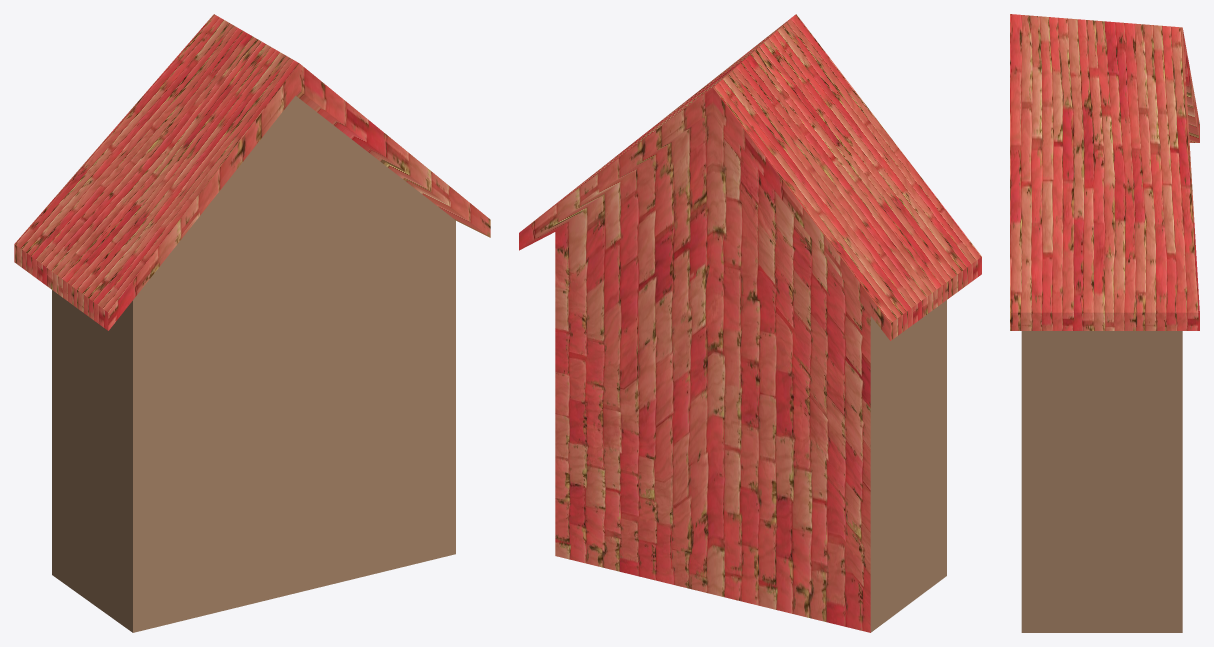
3 renders of one model, left to right at view 1: azimuth 30°, elevation 25°; view 2: azimuth 150°, elevation 25°; view 3: azimuth 270°, elevation 25°, orthographic. The views are drawn at different scales.
Parts seen in each view (by area): view 1: Cube.003; view 2: Cube.003; view 3: Cube.003.
Part boxes in pixels (bbox=[...]): Cube.003: bbox=[14, 14, 490, 632]; Cube.003: bbox=[519, 14, 981, 632]; Cube.003: bbox=[1010, 14, 1199, 632].
Bounding box in the file's own units: 0.5881 × 0.7861 × 0.2509.
2 materials, 1 textured.
